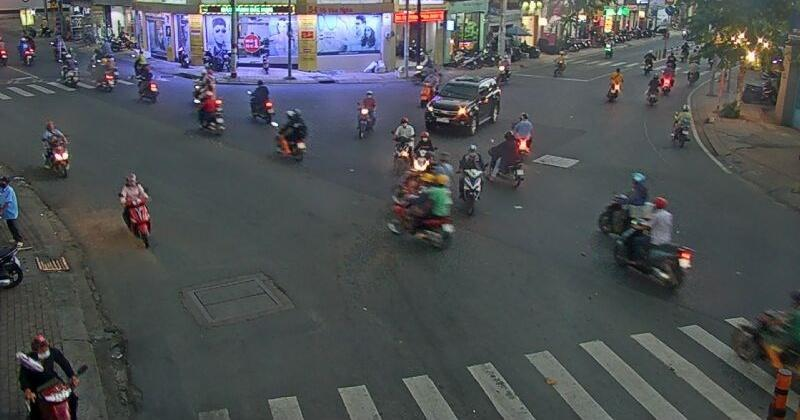xe hoi: (423, 74, 500, 135)
xe may: (118, 173, 151, 248), (458, 144, 484, 215), (275, 107, 307, 160), (40, 120, 68, 178), (391, 117, 415, 171), (247, 80, 274, 124), (356, 90, 376, 140), (672, 104, 692, 145)
